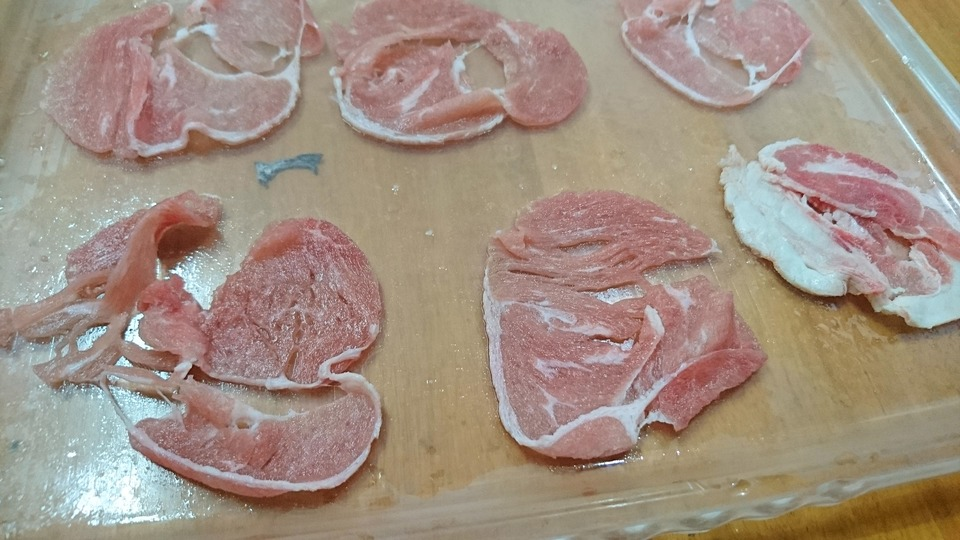restructured meat: (46, 207, 404, 509), (482, 187, 759, 451), (726, 140, 956, 328), (44, 6, 316, 152), (325, 13, 593, 145), (619, 1, 834, 106)
